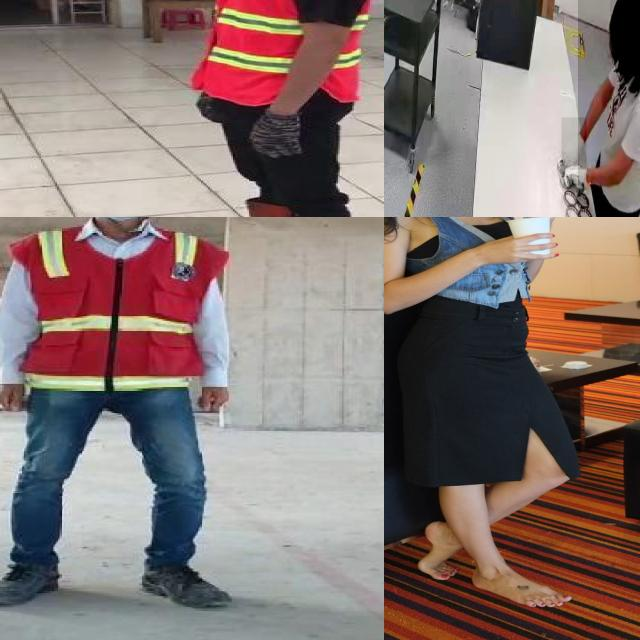Barefoots: (472, 567, 572, 607), (417, 521, 457, 580)
boots: (192, 194, 329, 217)
hand_glove: (244, 111, 313, 161), (562, 117, 586, 170), (558, 164, 591, 199)
hand_noglove: (0, 374, 33, 420), (189, 379, 233, 413)
head_nohelmet: (610, 0, 640, 17)
person: (0, 217, 239, 619), (167, 0, 384, 217), (578, 0, 640, 217)
shoes: (132, 549, 235, 614), (0, 541, 71, 613)
vest: (0, 224, 227, 406), (186, 0, 380, 106)
